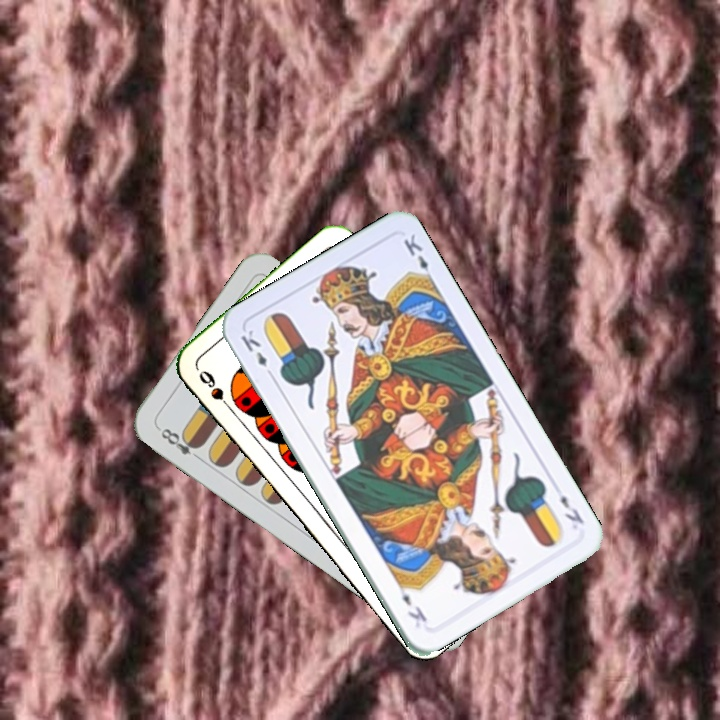E8: (153, 423, 204, 463)
EK: (236, 325, 277, 381), (556, 491, 587, 527)
S9: (194, 366, 237, 415)
